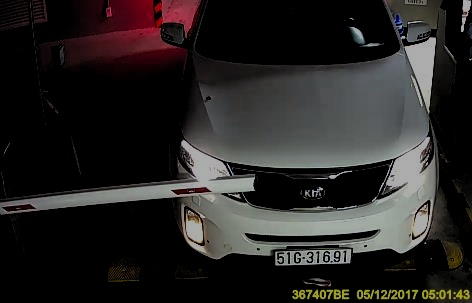plate: (273, 244, 350, 265)
